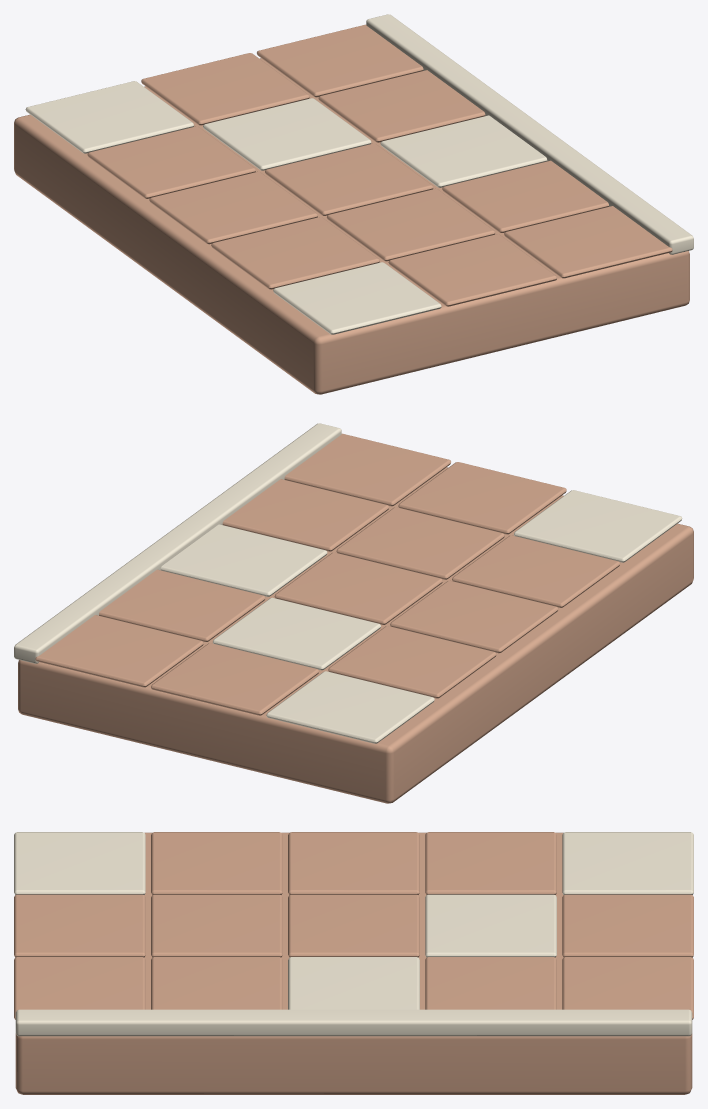
File: Platform.fbx
3 renders of one model, top to bottom at view 1: azimuth 30°, elevation 25°; view 2: azimuth 150°, elevation 25°; view 3: azimuth 270°, elevation 25°, orthographic. The views are drawn at different scales.
Visible parts, largest first — view 1: Clay.003, Oat.003; view 2: Clay.003, Oat.003; view 3: Clay.003, Oat.003.
Boxes of the visible parts, x1,y1,x2,y2 form: Clay.003: (14,24,689,394); Oat.003: (25,14,693,334); Clay.003: (18,433,693,803); Oat.003: (14,423,682,743); Clay.003: (14,832,693,1094); Oat.003: (14,832,693,1036).
Size of the model in its own units: 272 by 48 by 382.
